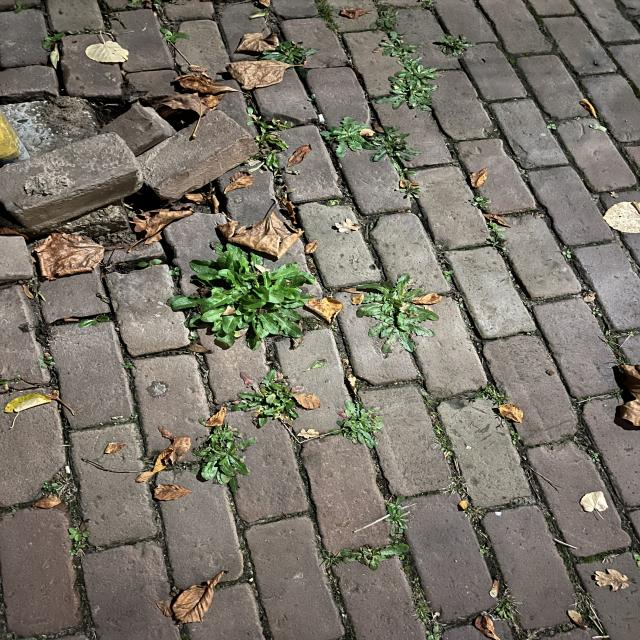leaves: (205, 205, 318, 263), (146, 56, 234, 119), (9, 228, 110, 274), (224, 25, 280, 90), (125, 198, 194, 242), (77, 37, 152, 73)
pavement: (0, 1, 639, 637), (470, 68, 640, 383)
weed: (180, 246, 317, 344), (352, 261, 444, 347), (385, 506, 445, 632), (373, 23, 439, 113), (174, 417, 266, 477), (324, 113, 402, 164), (236, 372, 315, 422), (239, 113, 295, 182), (333, 544, 432, 564), (479, 583, 524, 626), (343, 404, 374, 452), (280, 40, 318, 70), (444, 32, 470, 58)
weedling: (470, 194, 507, 257)
